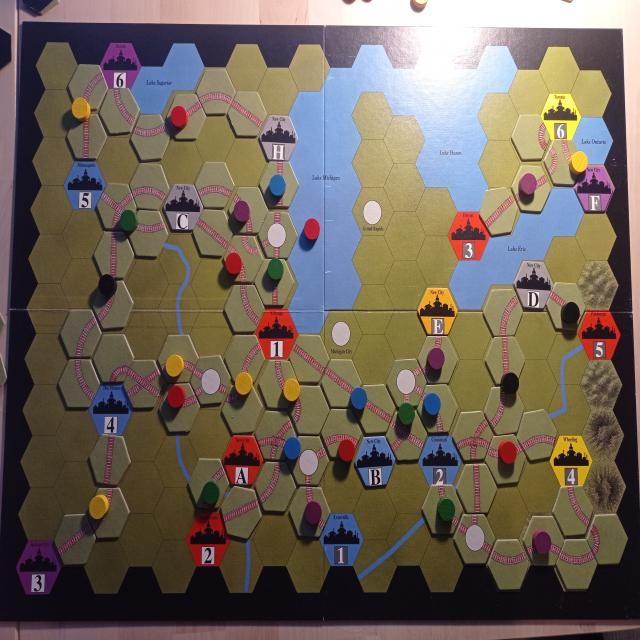10_1: (258, 211, 298, 259)
10_5: (453, 514, 495, 564)
11_1: (288, 436, 329, 486)
12_2: (386, 358, 427, 408)
14_3: (190, 355, 231, 405)
15_4: (223, 235, 264, 283)
16_0: (222, 435, 264, 485)
17_0: (354, 436, 396, 486)
18_0: (163, 184, 203, 231)
19_0: (513, 260, 554, 310)
1_1: (92, 334, 134, 383)
1_2: (511, 114, 550, 160)
1_4: (222, 384, 263, 434)
1_5: (586, 514, 628, 565), (289, 385, 330, 435)
20_0: (417, 288, 458, 336)
21_0: (574, 165, 613, 212)
23_0: (259, 115, 298, 161)
2_0: (523, 515, 564, 567), (158, 334, 200, 384), (321, 408, 362, 459), (517, 409, 557, 461), (129, 163, 170, 211), (194, 162, 235, 208), (196, 69, 236, 115)
2_1: (188, 458, 230, 509), (59, 309, 102, 358), (224, 334, 266, 383), (483, 288, 523, 336), (68, 64, 109, 110)
2_2: (289, 487, 331, 538), (421, 484, 463, 535), (258, 360, 300, 410), (552, 486, 594, 536), (58, 359, 100, 408), (224, 284, 265, 332), (99, 88, 140, 134)
2_3: (487, 539, 529, 590), (556, 539, 597, 590), (158, 383, 200, 432), (485, 434, 526, 484), (127, 210, 169, 258), (131, 114, 171, 162)
2_4: (87, 487, 130, 539), (92, 280, 134, 330), (254, 462, 296, 512), (484, 385, 524, 435), (417, 336, 458, 384)
2_5: (417, 384, 458, 433), (228, 187, 269, 234)
3_0: (53, 513, 96, 566), (220, 486, 262, 540), (479, 187, 518, 236), (511, 165, 551, 212), (166, 94, 206, 140)
3_1: (89, 433, 131, 485), (456, 464, 498, 514), (484, 336, 526, 385), (66, 113, 108, 160), (254, 258, 295, 306), (259, 160, 299, 208), (94, 231, 134, 279)
3_2: (354, 384, 396, 434), (321, 358, 362, 408), (193, 208, 233, 258), (289, 334, 329, 383), (546, 282, 586, 330), (228, 91, 268, 137)
5_5: (544, 139, 584, 186)
7_1: (254, 410, 296, 461), (452, 410, 493, 461)
8_2: (96, 182, 137, 230)
8_5: (386, 411, 427, 461)
9_0: (122, 359, 164, 409)
